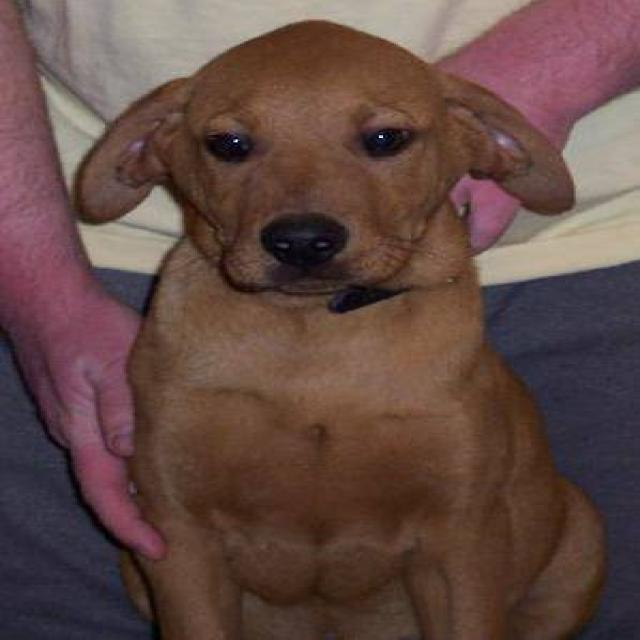dog: (71, 17, 608, 638)
